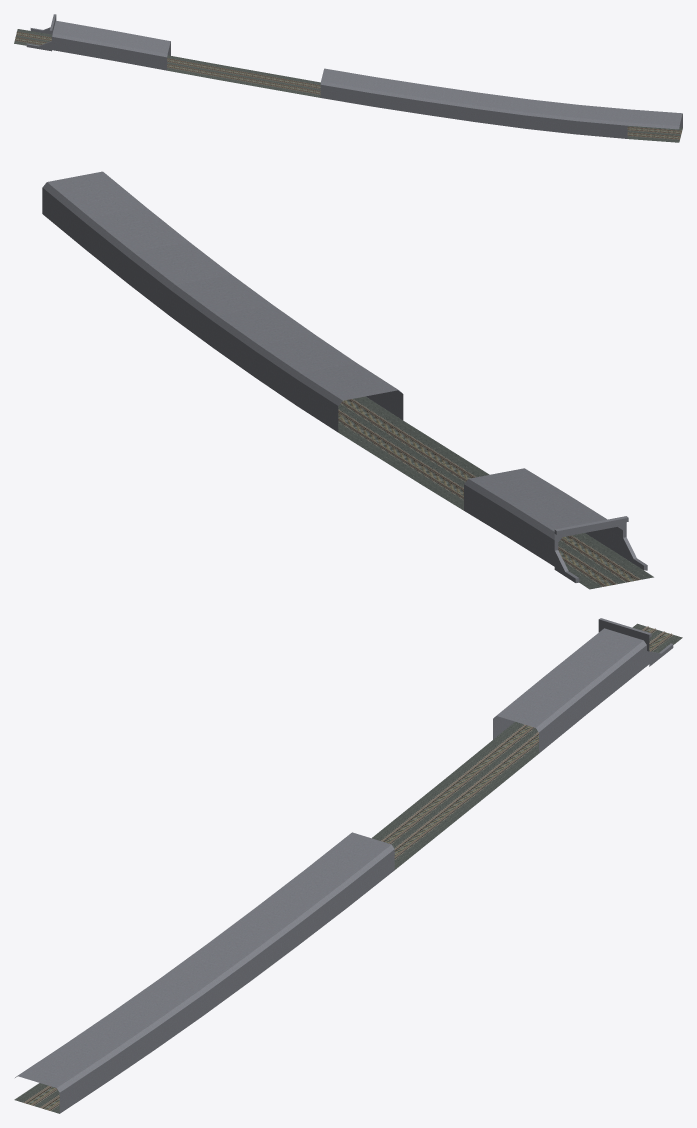
File: just_stuff07_sfse.obj
3 views of the same model, one above another, from view 1: azimuth 30°, elevation 25°; view 2: azimuth 150°, elevation 25°; view 3: azimuth 270°, elevation 25° (orthographic). The views are drawn at different scales.
Parts seen in each view (by area): view 1: just_stuff07_sfse; view 2: just_stuff07_sfse; view 3: just_stuff07_sfse.
Part boxes in pixels (box(x1,y1,x2,y2)): just_stuff07_sfse: box(14, 14, 682, 142); just_stuff07_sfse: box(42, 171, 653, 589); just_stuff07_sfse: box(14, 618, 682, 1113).
Size of the model in its own units: 175 by 29.42 by 131.
8 materials, 8 textured.
